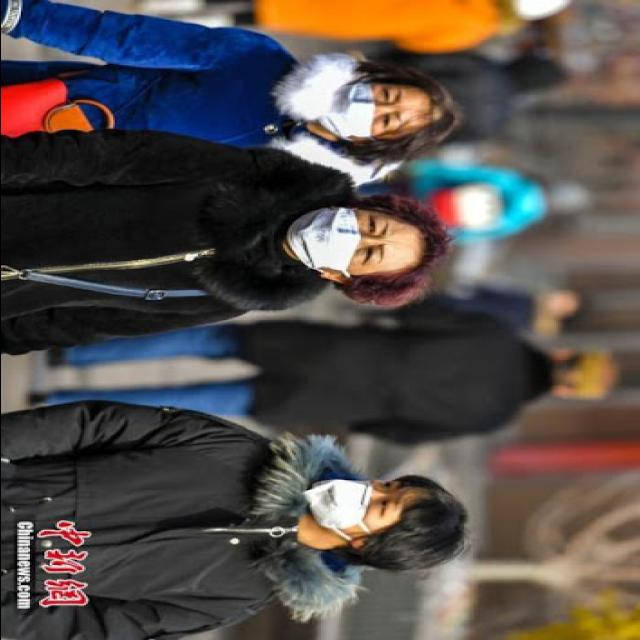mask: (288, 206, 396, 276), (309, 478, 414, 536), (327, 78, 409, 136)
